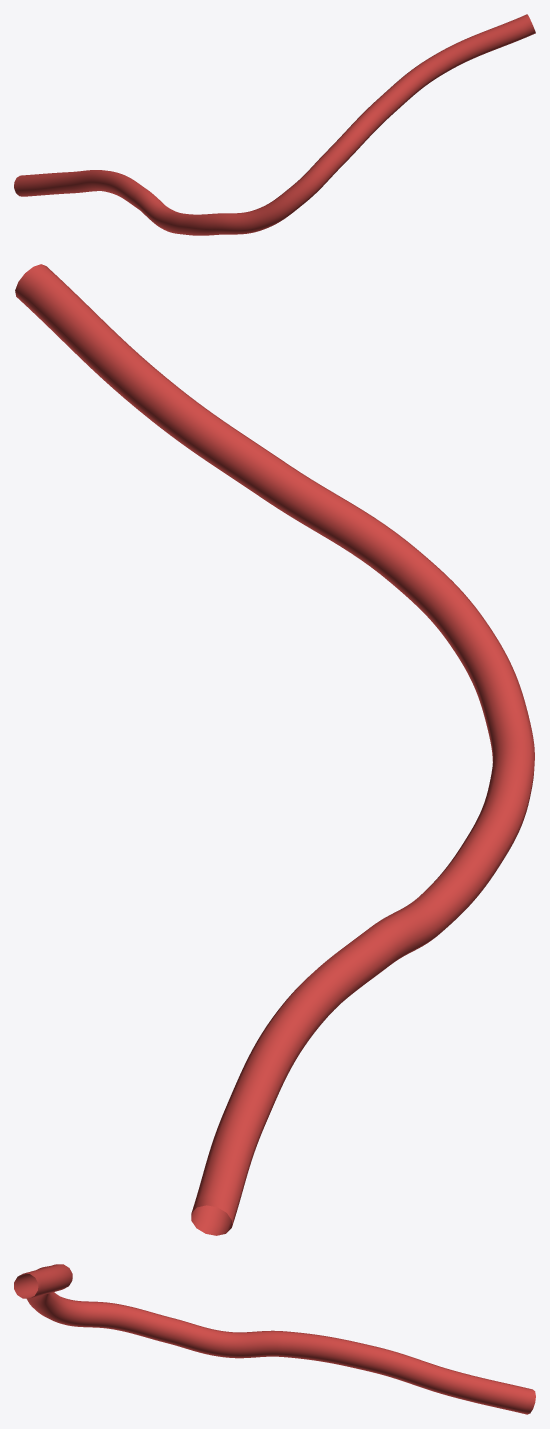
3 renders of one model, top to bottom at view 1: azimuth 30°, elevation 25°; view 2: azimuth 150°, elevation 25°; view 3: azimuth 270°, elevation 25°, orthographic. The views are drawn at different scales.
Parts seen in each view (by area): view 1: 左侧腭降动脉; view 2: 左侧腭降动脉; view 3: 左侧腭降动脉.
Part boxes in pixels (<box>): 左侧腭降动脉: <box>14,14,535,235</box>; 左侧腭降动脉: <box>15,264,534,1235</box>; 左侧腭降动脉: <box>14,1264,535,1414</box>.
Size of the model in its own units: 0.0247 by 0.0197 by 0.0297.
